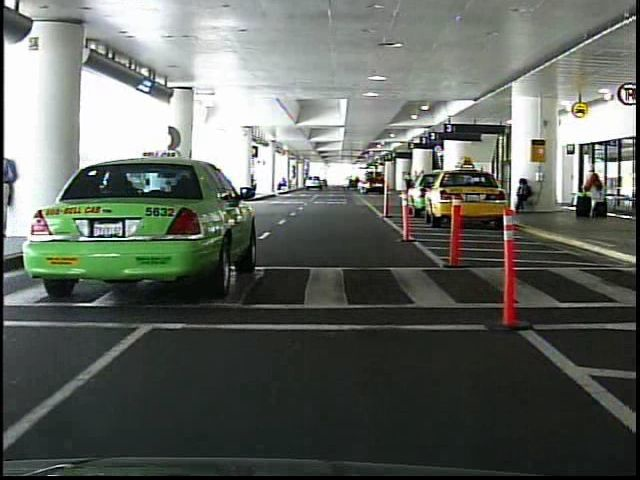person: (3, 143, 21, 238), (580, 166, 604, 219), (512, 177, 533, 211)
